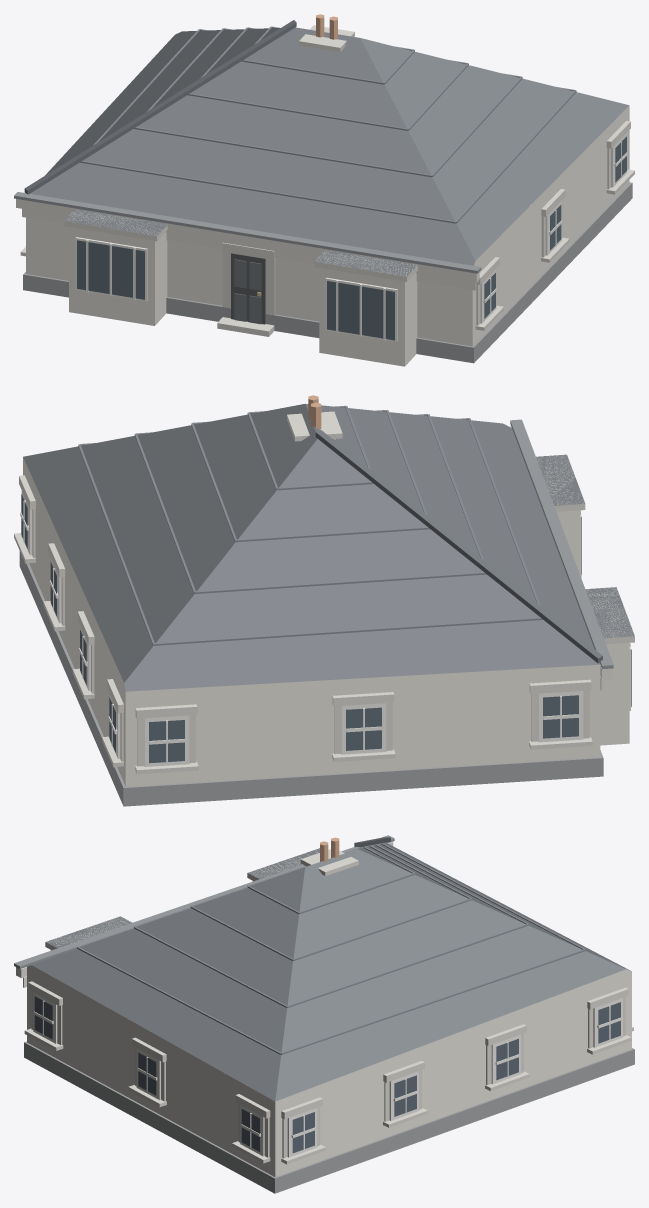
3 renders of one model, top to bottom at view 1: azimuth 30°, elevation 25°; view 2: azimuth 150°, elevation 25°; view 3: azimuth 270°, elevation 25°, orthographic. The views are drawn at different scales.
Parts seen in each view (by area): view 1: slate, harl_cream, dress_cream, plinth, slate_lt, string, lead, frame, window_glass_002, window_glass_001, slate_dk, door_dark_p (+1 smaller); view 2: slate, harl_cream, plinth, dress_cream, slate_lt, frame, slate_dk, lead, window_glass_008, window_glass_009, window_glass_007; view 3: slate, harl_cream, plinth, dress_cream, slate_lt, frame, lead, window_glass_004, window_glass_005, window_glass_003, window_glass_006, window_glass_011 (+2 smaller).
Boxes of the visible parts, left/top/right/bottom form: slate: left=30, top=27, right=628, bottom=276; harl_cream: left=26, top=105, right=629, bottom=366; dress_cream: left=20, top=25, right=634, bottom=336; plinth: left=23, top=182, right=632, bottom=363; slate_lt: left=80, top=26, right=576, bottom=223; string: left=16, top=199, right=479, bottom=290; lead: left=14, top=192, right=481, bottom=273; frame: left=75, top=132, right=627, bottom=341; window_glass_002: left=327, top=281, right=394, bottom=340; window_glass_001: left=77, top=240, right=144, bottom=299; slate_dk: left=24, top=20, right=296, bottom=194; door_dark_p: left=234, top=259, right=261, bottom=324; slate: left=23, top=403, right=634, bottom=691; harl_cream: left=23, top=457, right=629, bottom=786; plinth: left=19, top=551, right=603, bottom=806; dress_cream: left=14, top=411, right=634, bottom=774; slate_lt: left=78, top=405, right=543, bottom=645; frame: left=20, top=491, right=630, bottom=766; slate_dk: left=315, top=429, right=602, bottom=663; lead: left=510, top=419, right=613, bottom=669; window_glass_008: left=346, top=707, right=381, bottom=750; window_glass_009: left=543, top=695, right=578, bottom=738; window_glass_007: left=149, top=720, right=184, bottom=763; slate: left=32, top=843, right=630, bottom=1101; harl_cream: left=27, top=881, right=631, bottom=1177; plinth: left=24, top=1041, right=634, bottom=1193; dress_cream: left=24, top=849, right=633, bottom=1164; slate_lt: left=77, top=843, right=585, bottom=1054; frame: left=33, top=992, right=622, bottom=1157; lead: left=14, top=835, right=394, bottom=968; window_glass_004: left=394, top=1075, right=416, bottom=1116; window_glass_005: left=496, top=1038, right=518, bottom=1080; window_glass_003: left=292, top=1112, right=314, bottom=1153; window_glass_006: left=598, top=1002, right=620, bottom=1043; window_glass_011: left=138, top=1052, right=156, bottom=1095.
Bounding box in the file's own units: 16.89 × 6.57 × 16.73.
